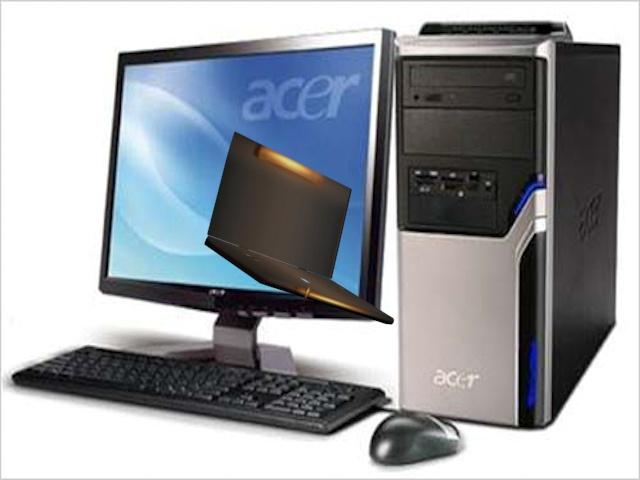laptop_computer: (201, 129, 400, 336)
